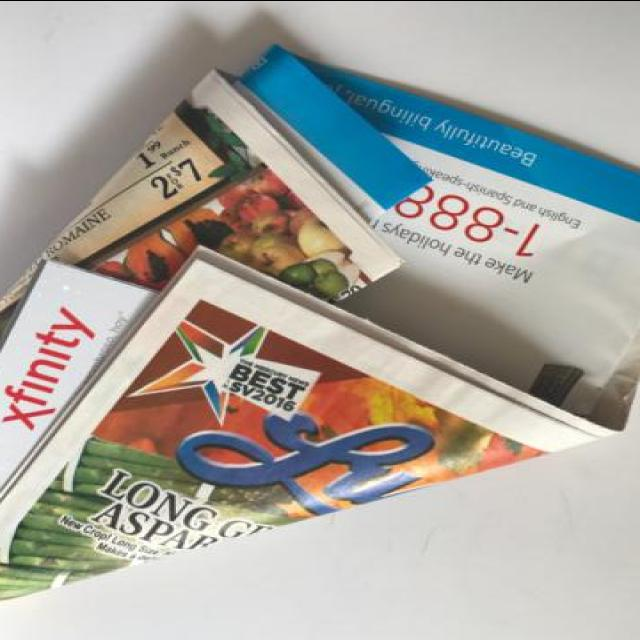kertas: (0, 40, 640, 602)
